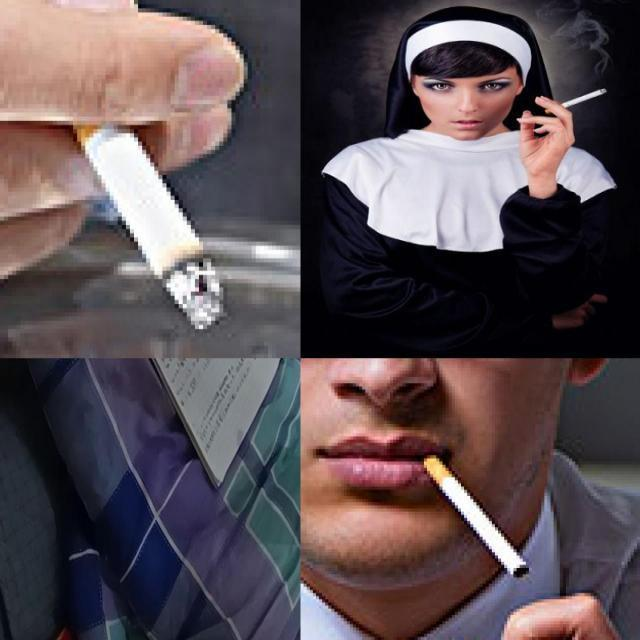rokok: (61, 88, 228, 332), (414, 445, 530, 579), (544, 89, 608, 115)
